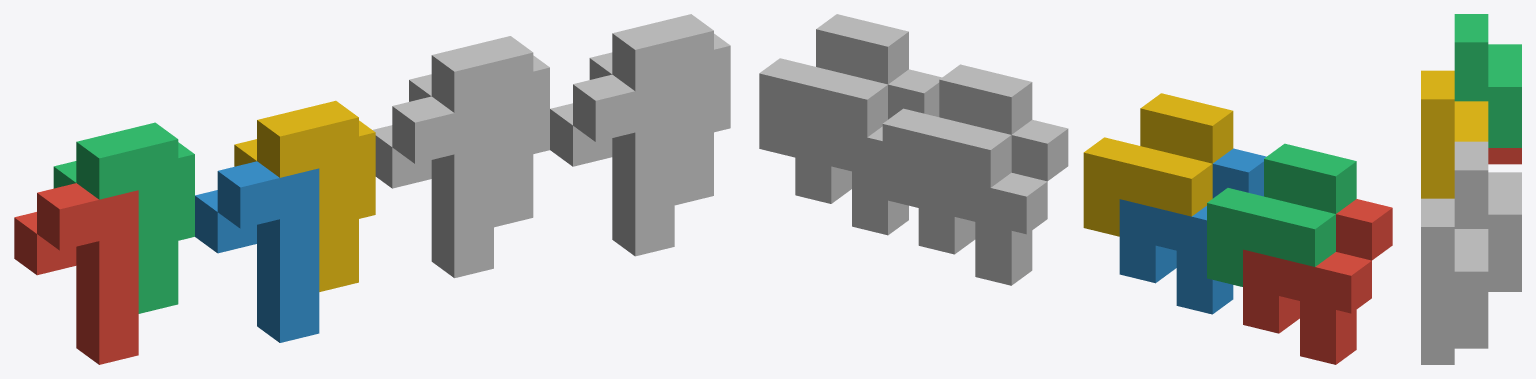
File: tiling.obj
The picture shows the model from 3 angles, left to right: view 1: azimuth 30°, elevation 25°; view 2: azimuth 150°, elevation 25°; view 3: azimuth 270°, elevation 25°; orthographic projection. The views are drawn at different scales.
Parts seen in each view (by area): view 1: copy_1_domain_2, copy_1_domain_6, copy_1_domain_1, copy_1_domain_5, copy_1_domain_3, copy_1_domain_8, copy_1_domain_4, copy_1_domain_7; view 2: copy_1_domain_7, copy_1_domain_5, copy_1_domain_4, copy_1_domain_8, copy_1_domain_3, copy_1_domain_1, copy_1_domain_2, copy_1_domain_6; view 3: copy_1_domain_8, copy_1_domain_3, copy_1_domain_7, copy_1_domain_4, copy_1_domain_6, copy_1_domain_1, copy_1_domain_5.
Part boxes in pixels (x1,y1,x2,y2): copy_1_domain_2: [195, 161, 319, 342]; copy_1_domain_6: [550, 74, 674, 256]; copy_1_domain_1: [14, 183, 138, 364]; copy_1_domain_5: [373, 96, 493, 278]; copy_1_domain_3: [53, 122, 194, 313]; copy_1_domain_8: [589, 14, 730, 205]; copy_1_domain_4: [234, 100, 375, 291]; copy_1_domain_7: [409, 36, 549, 227]; copy_1_domain_7: [882, 64, 1032, 207]; copy_1_domain_5: [918, 120, 1068, 285]; copy_1_domain_4: [1083, 93, 1233, 236]; copy_1_domain_8: [759, 14, 908, 157]; copy_1_domain_3: [1207, 143, 1356, 286]; copy_1_domain_1: [1243, 199, 1392, 364]; copy_1_domain_2: [1119, 148, 1266, 314]; copy_1_domain_6: [795, 69, 941, 235]; copy_1_domain_8: [1421, 198, 1488, 348]; copy_1_domain_3: [1454, 14, 1521, 147]; copy_1_domain_7: [1454, 141, 1521, 275]; copy_1_domain_4: [1421, 70, 1488, 198]; copy_1_domain_6: [1421, 332, 1488, 364]; copy_1_domain_1: [1488, 148, 1521, 164]; copy_1_domain_5: [1488, 275, 1521, 291].
Size of the model in its own units: 17 by 5 by 3.
